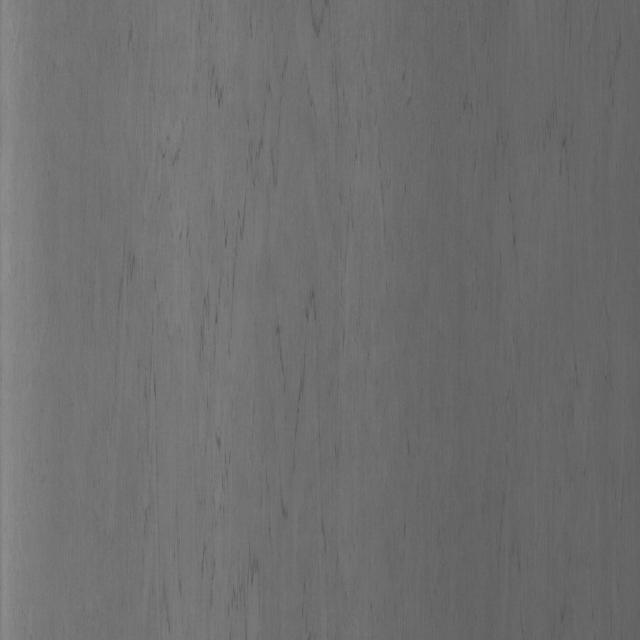inclusion: (156, 56, 320, 578)
